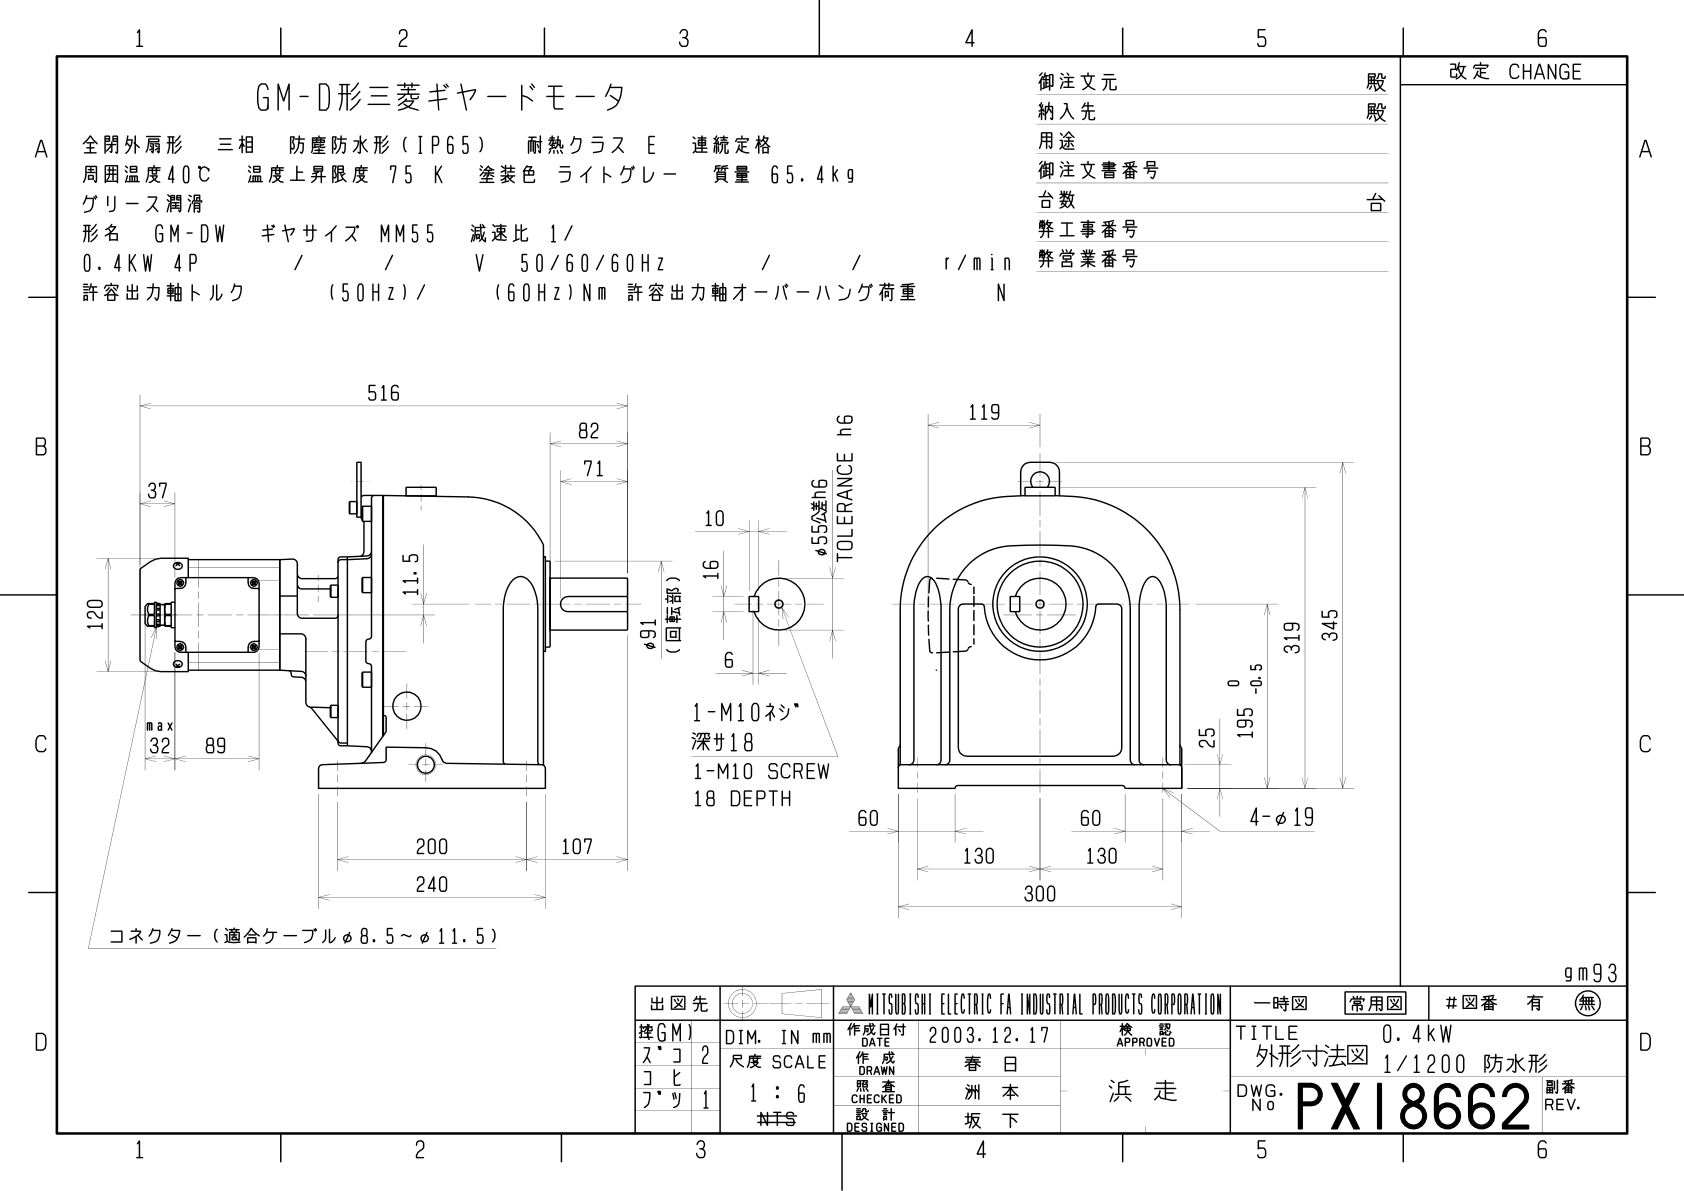GM_D_IP65_三相_脚: (4, 8, 1680, 1186)
